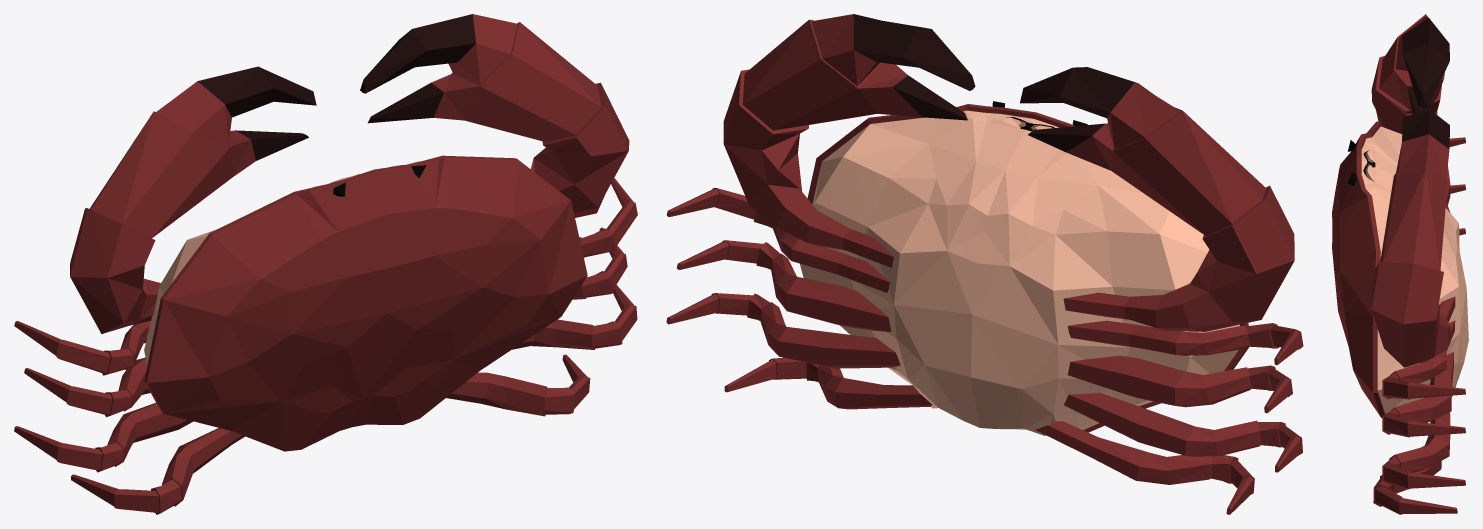
The model's file is RockCrab.glb.
3 renders of one model, left to right at view 1: azimuth 30°, elevation 25°; view 2: azimuth 150°, elevation 25°; view 3: azimuth 270°, elevation 25°, orthographic. The views are drawn at different scales.
Visible parts, largest first — view 1: RockCrab; view 2: RockCrab; view 3: RockCrab.
Boxes of the visible parts, x1,y1,x2,y2 form: RockCrab: (14, 14, 637, 514); RockCrab: (666, 14, 1303, 514); RockCrab: (1332, 14, 1468, 514).
Bounding box in the file's own units: 0.3054 × 0.1929 × 0.0697.
1 material, 1 textured.
